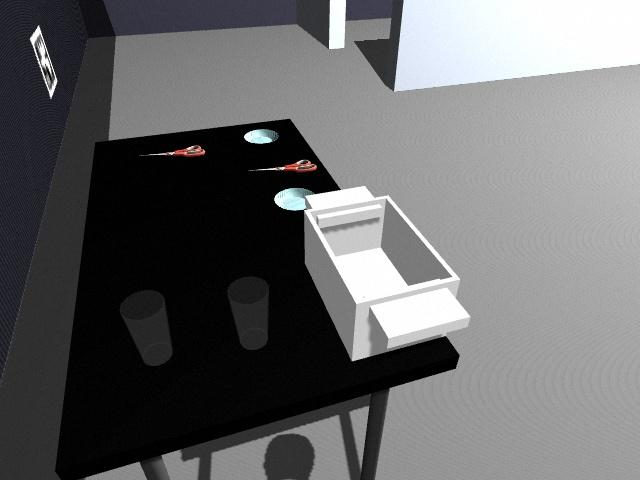cup: (120, 291, 172, 365), (226, 276, 269, 349)
plate: (273, 187, 314, 211), (243, 128, 280, 145)
scissors: (249, 158, 317, 173), (142, 145, 205, 158)
